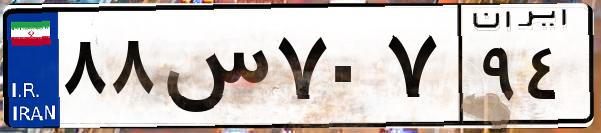0: (330, 28, 385, 110)
4: (525, 38, 570, 115)
7: (270, 28, 330, 110), (385, 28, 445, 110)
8: (57, 26, 110, 100), (110, 28, 158, 98)
9: (475, 38, 525, 113)
س: (158, 20, 270, 120)
